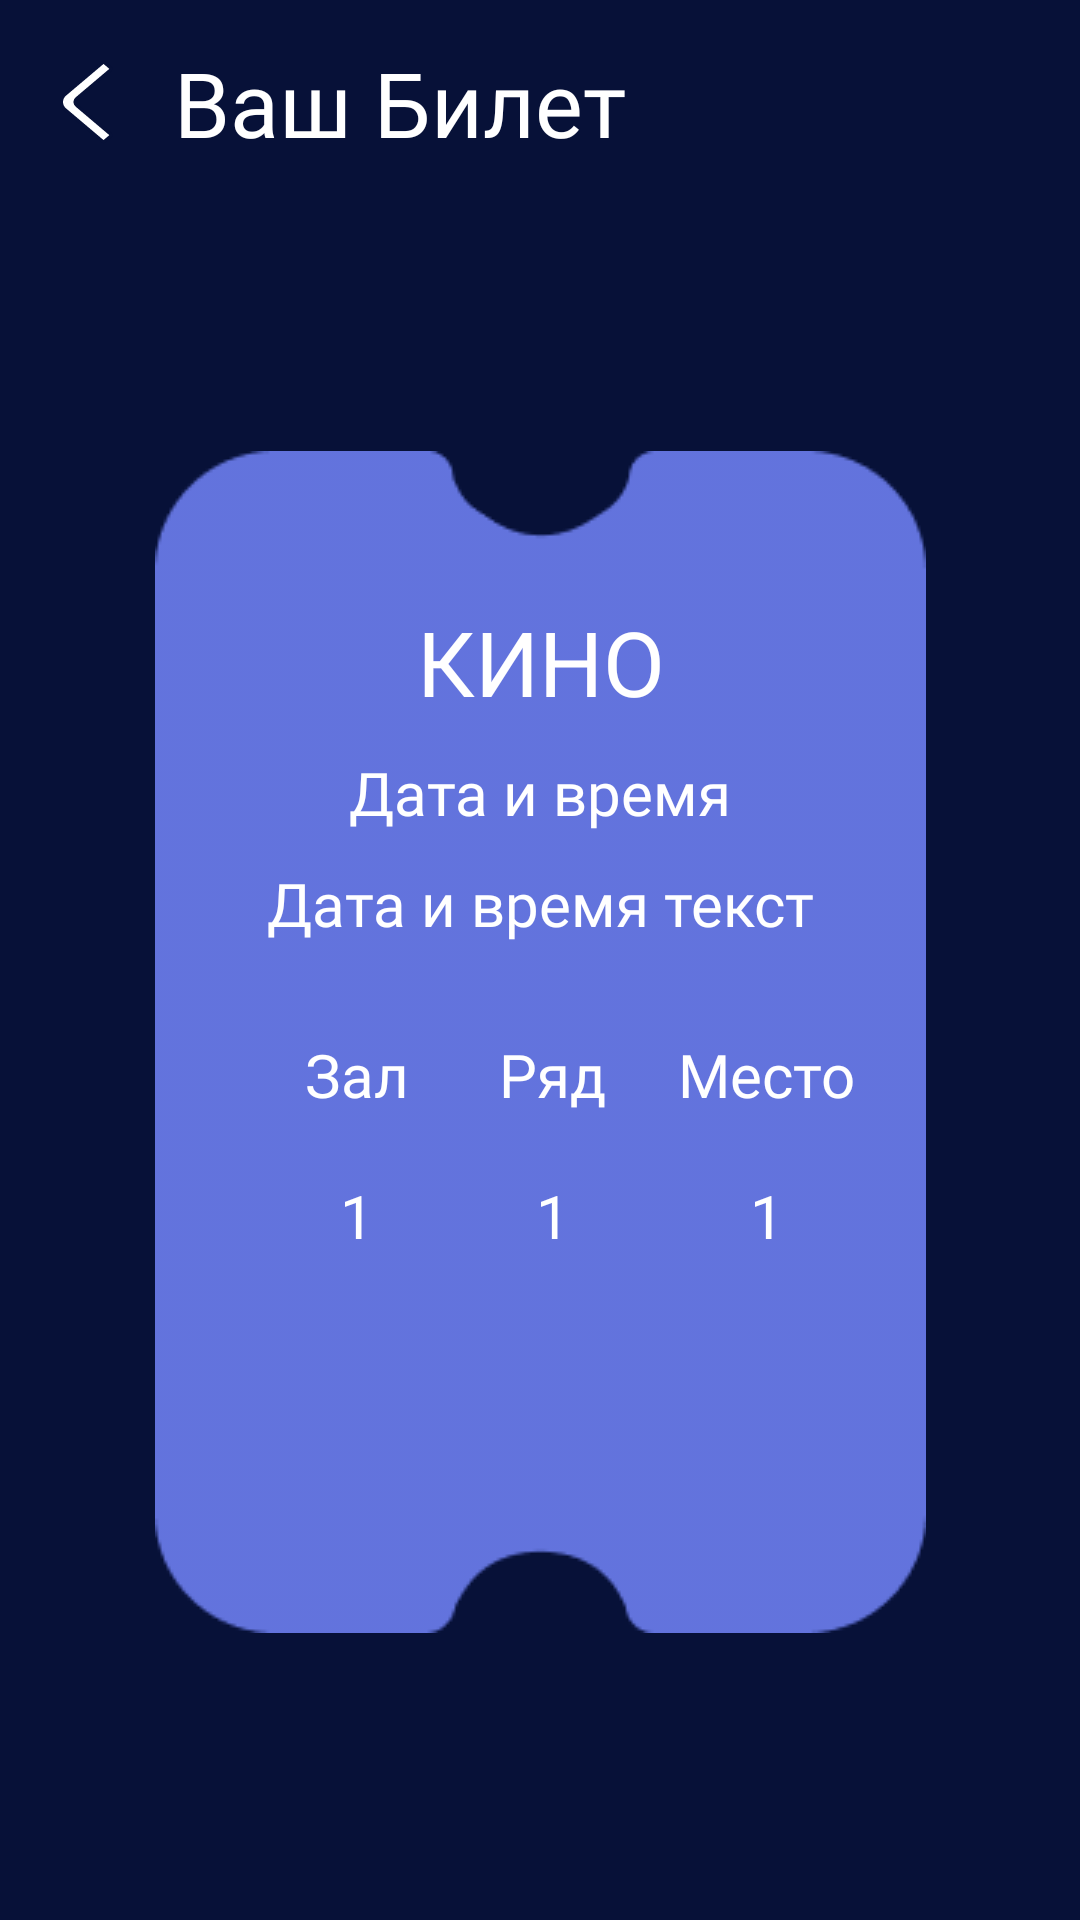

Named icons in this screenshot (1080*1920) and their centers, [x,y]:
left arrow: [86,102]
